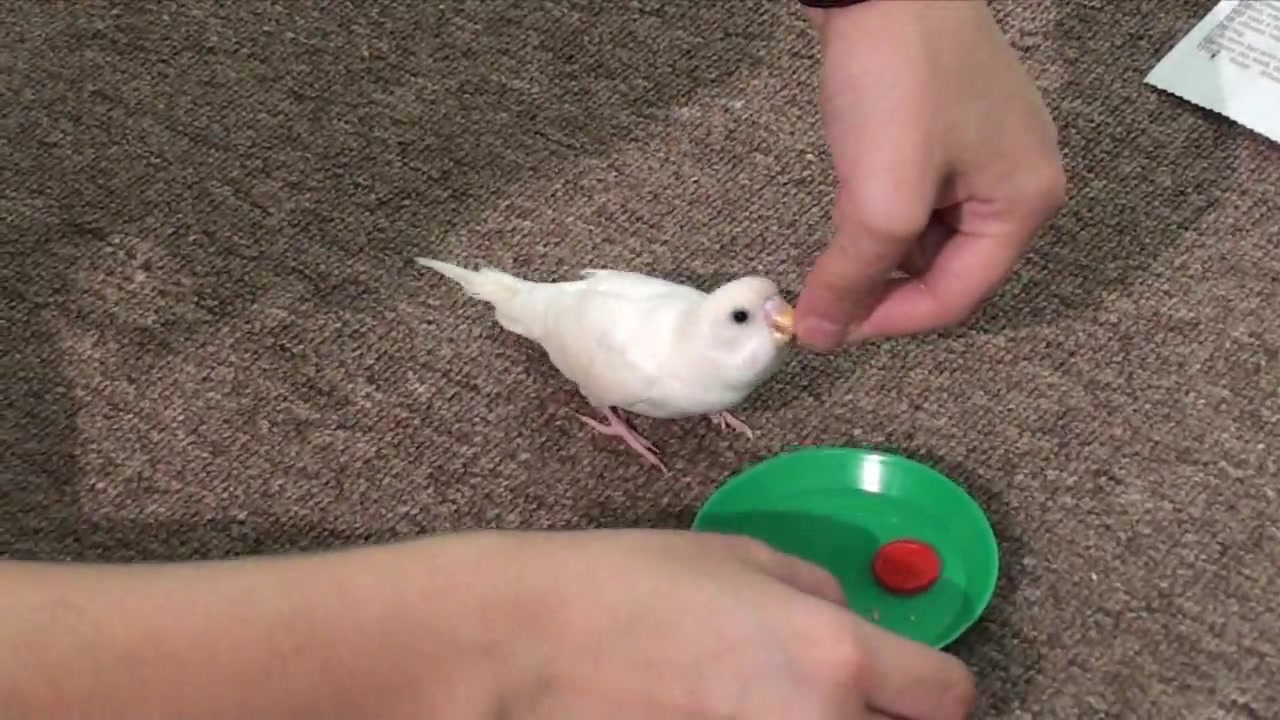bird: (417, 256, 796, 474)
